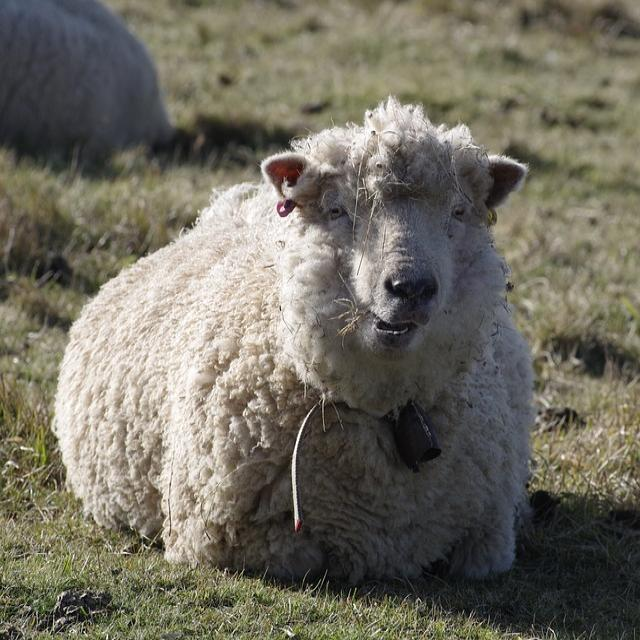goat: (54, 98, 532, 582)
